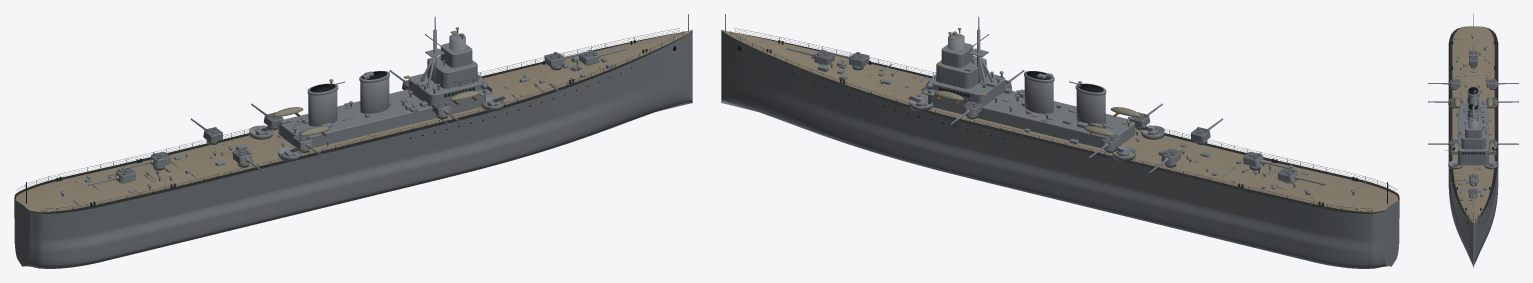
The model's file is java.glb.
The picture shows the model from 3 angles, left to right: view 1: azimuth 30°, elevation 25°; view 2: azimuth 150°, elevation 25°; view 3: azimuth 270°, elevation 25°; orthographic projection. The views are drawn at different scales.
Visible parts, largest first — view 1: java; view 2: java; view 3: java, T_8_malla, T_9_malla, T_2_malla, T_1_malla, T_0_malla.
Part boxes in pixels (left/top/right/bottom): java: left=14, top=14, right=692, bottom=268; java: left=721, top=14, right=1399, bottom=268; java: left=1445, top=14, right=1498, bottom=268; T_8_malla: left=1449, top=78, right=1460, bottom=87; T_9_malla: left=1486, top=78, right=1497, bottom=87; T_2_malla: left=1469, top=56, right=1477, bottom=65; T_1_malla: left=1469, top=174, right=1477, bottom=183; T_0_malla: left=1469, top=189, right=1477, bottom=198.
Bounding box in the file's own units: 155 × 33 × 29.2.
